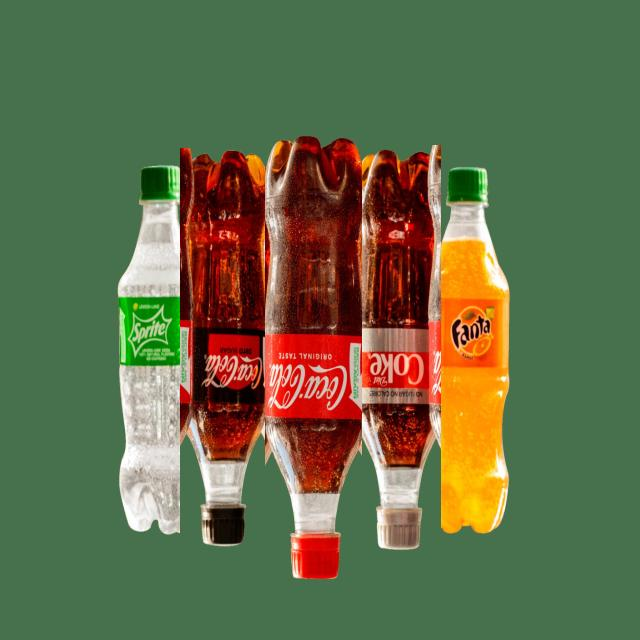coca-cola: (265, 130, 362, 585), (180, 148, 275, 551), (350, 145, 441, 557)
